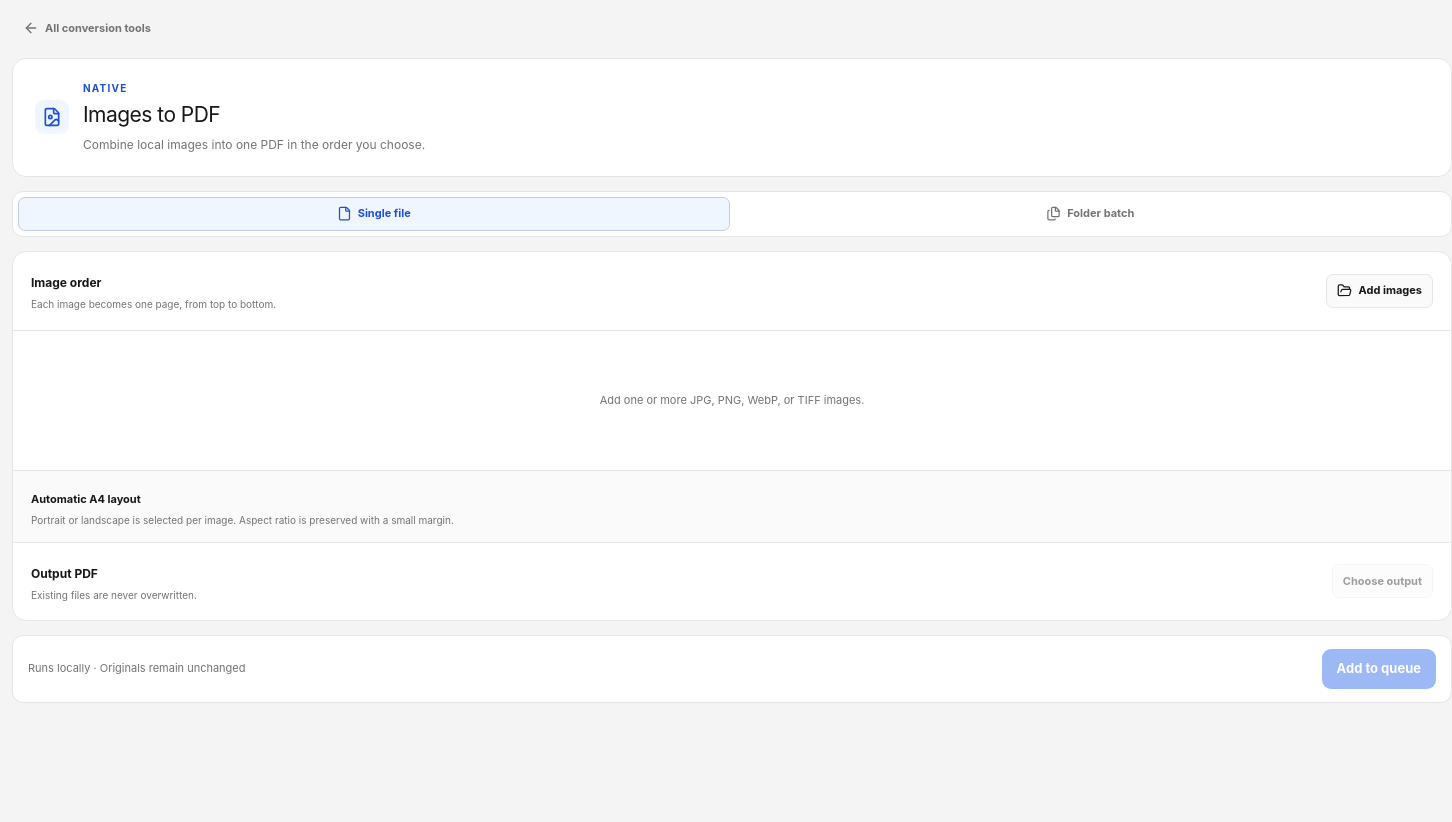
Test: folder batch converter workflows › queues one PDF job per image when separate output is selected
Click the tab "Folder batch": (1090, 214) [734, 196, 1446, 230]
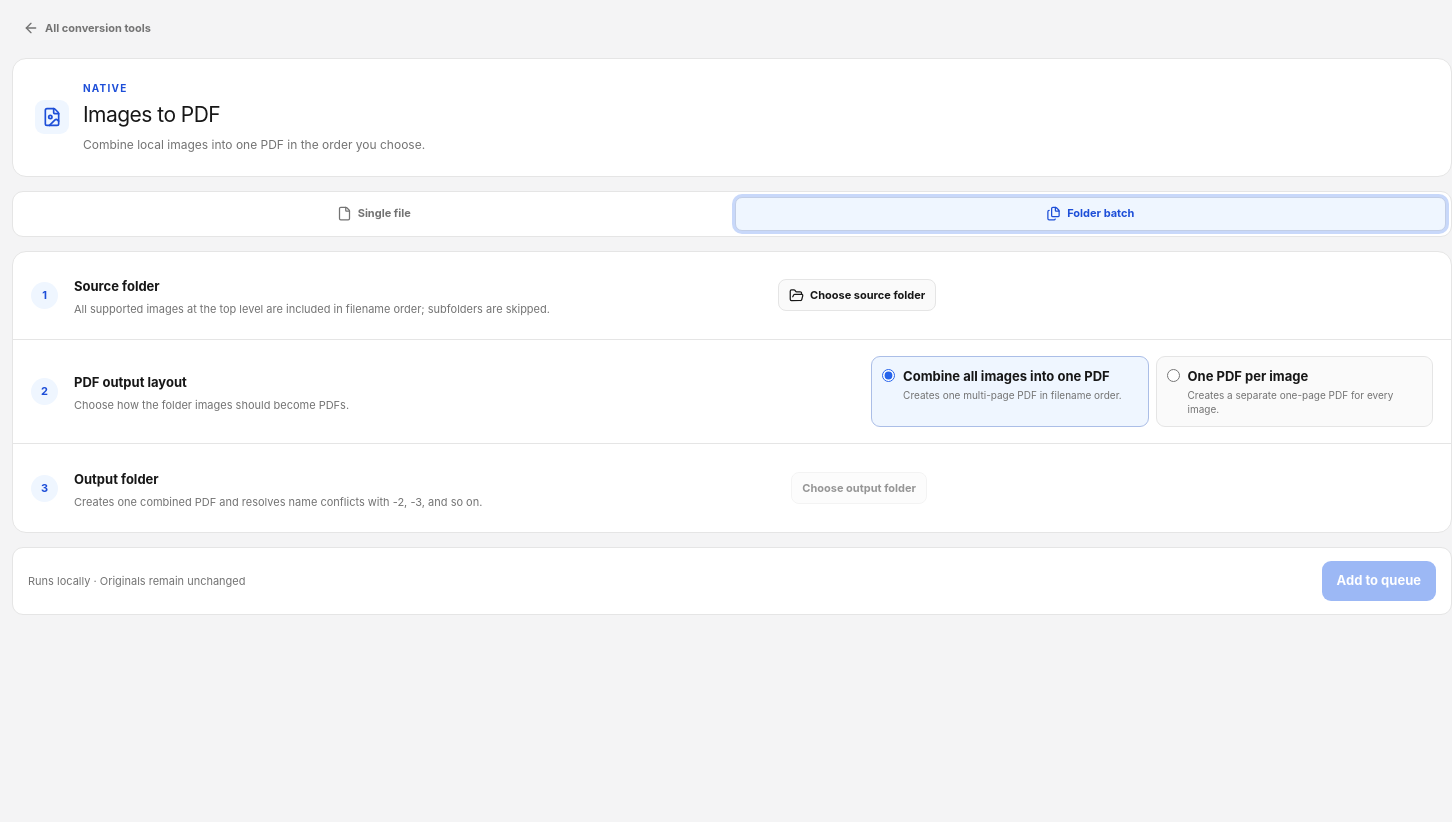
Check: the radio button labelled "Combine all images into one PDF" is checked, box [882, 368, 895, 382]
Click the radio button labelled "One PDF per image": (1173, 375) [1166, 368, 1180, 382]
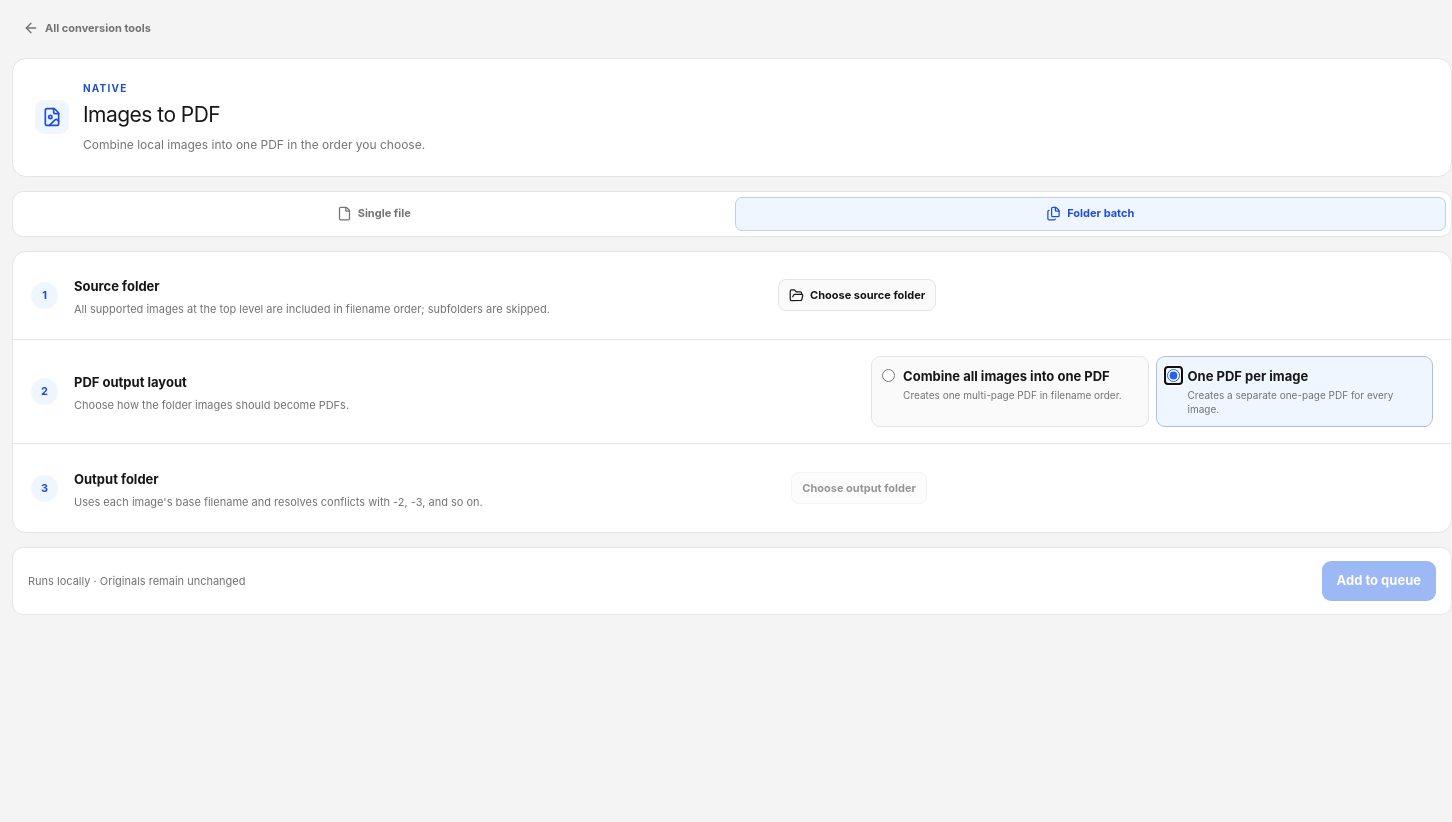
Click the button "Choose source folder": (857, 295) [778, 279, 936, 311]
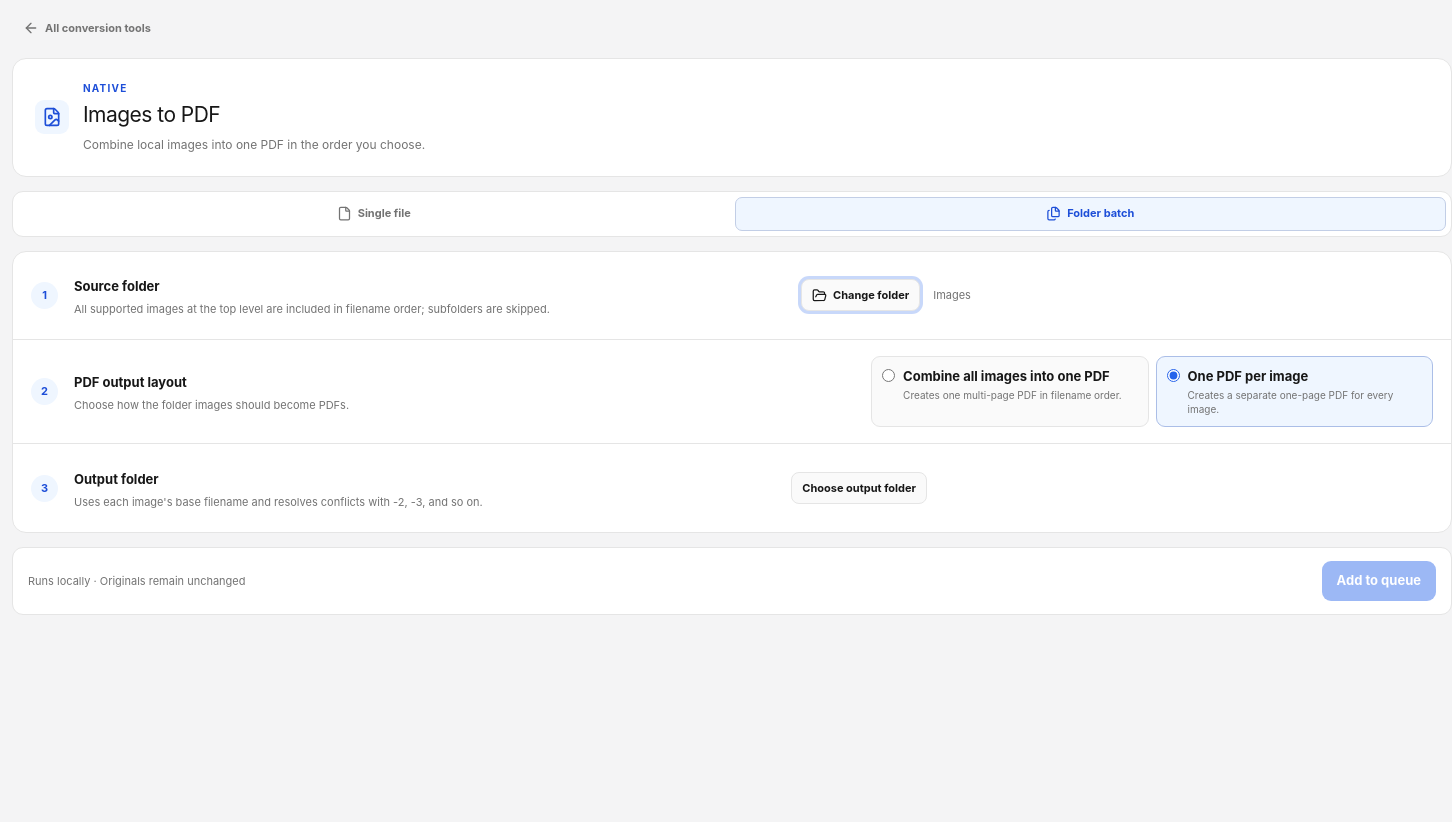
Click the button "Choose output folder": (859, 488) [791, 472, 927, 504]
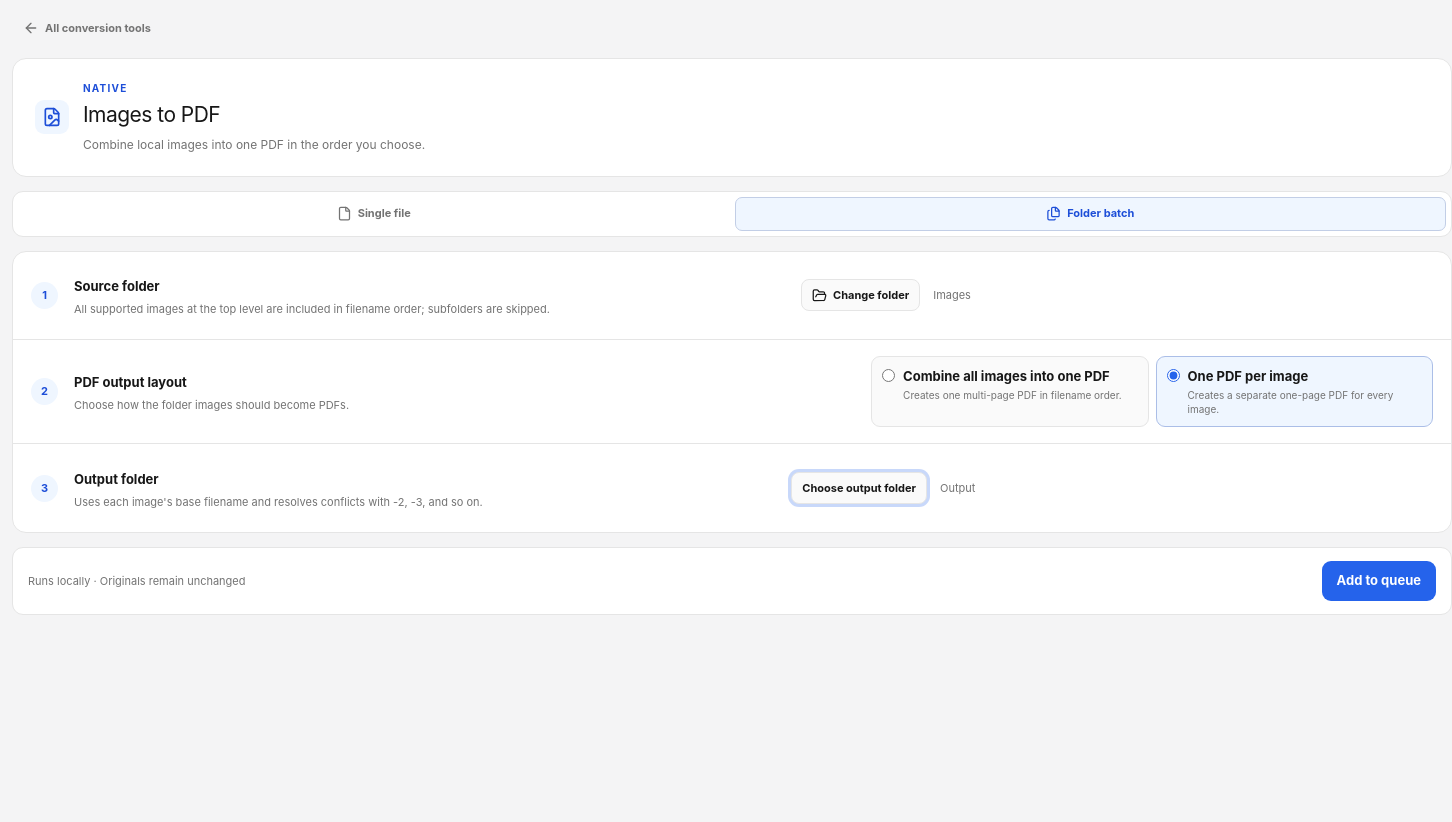
Click the button "Add to queue": (1379, 581) [1322, 561, 1436, 601]
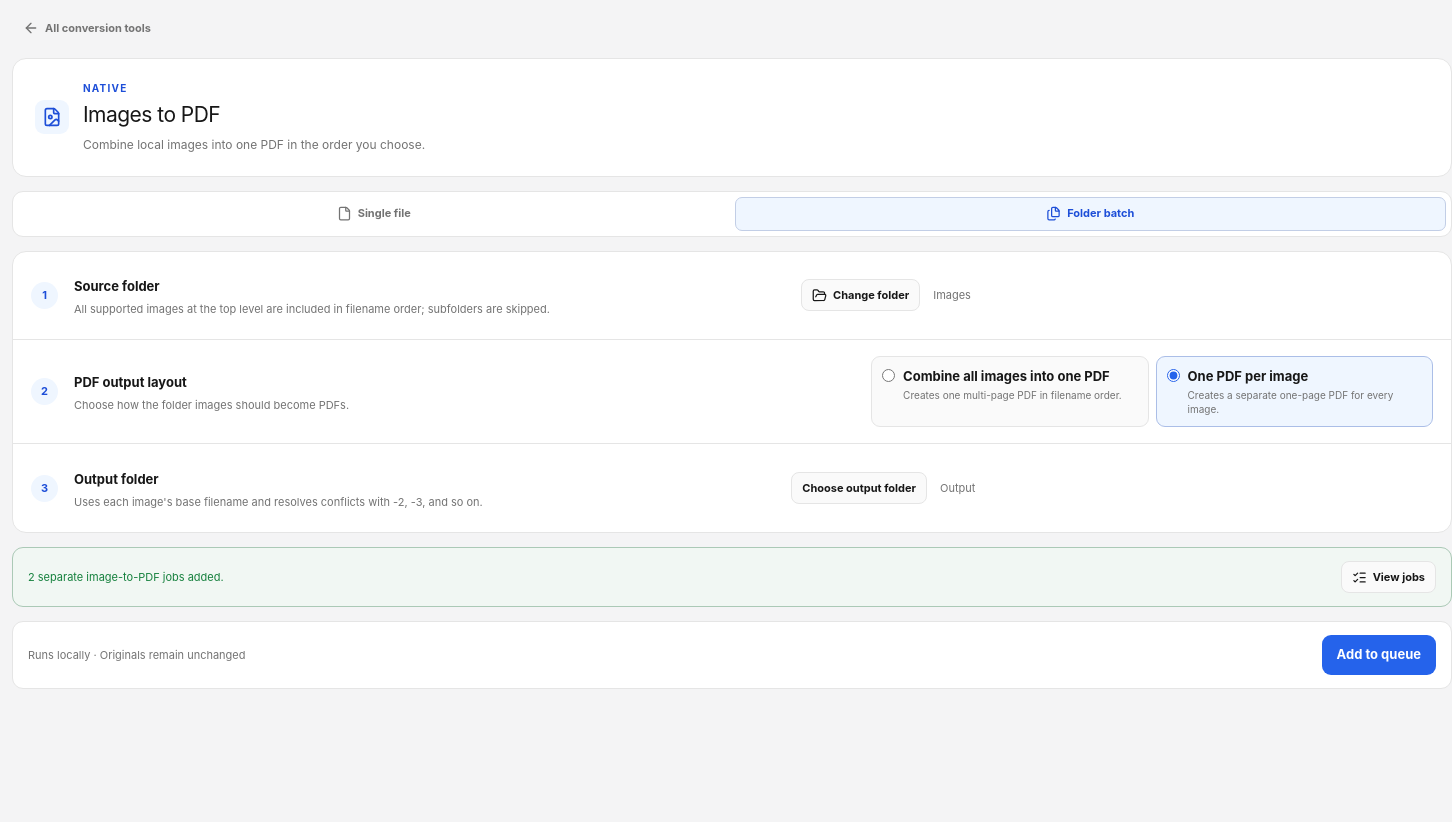
Check: the text "2 separate image-to-PDF jobs added." is shown, box [28, 569, 224, 585]
